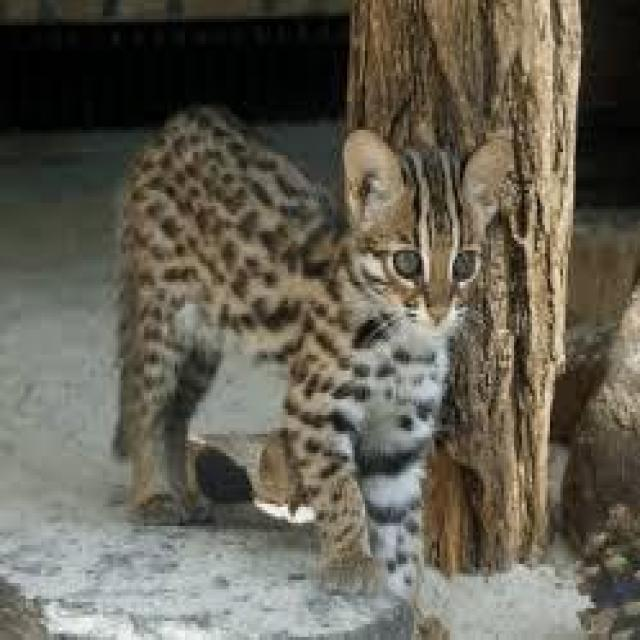leopard: (122, 89, 538, 499)
